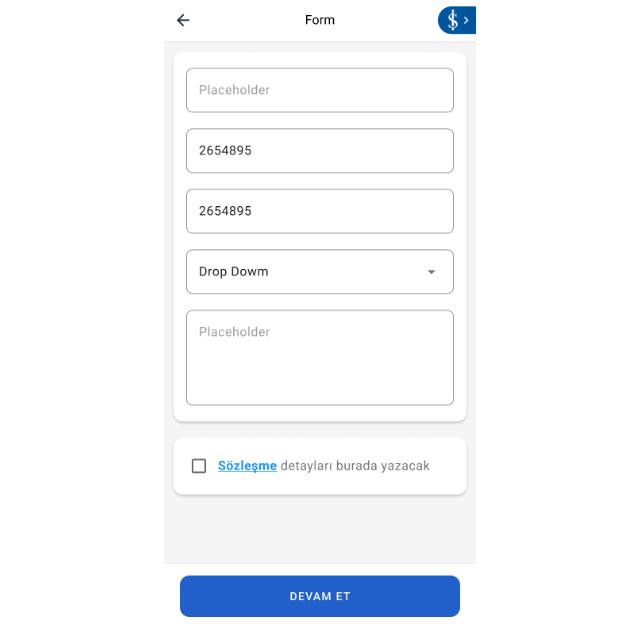QLabel: (280, 461, 432, 474), (286, 588, 352, 606), (216, 458, 278, 476), (302, 12, 338, 28)
VAppBar: (164, 0, 476, 44)
VBtn: (180, 576, 462, 618)
VCard: (173, 52, 467, 424), (172, 437, 468, 495)
VCheckbox: (189, 457, 209, 475)
VCombobox: (186, 249, 454, 295)
VFooter: (164, 562, 476, 640)
VIcon: (176, 12, 190, 28)
VImg: (438, 6, 476, 34)
VTextField: (184, 128, 456, 174), (185, 68, 455, 114), (185, 188, 455, 234)
VTextarea: (186, 308, 454, 406)
